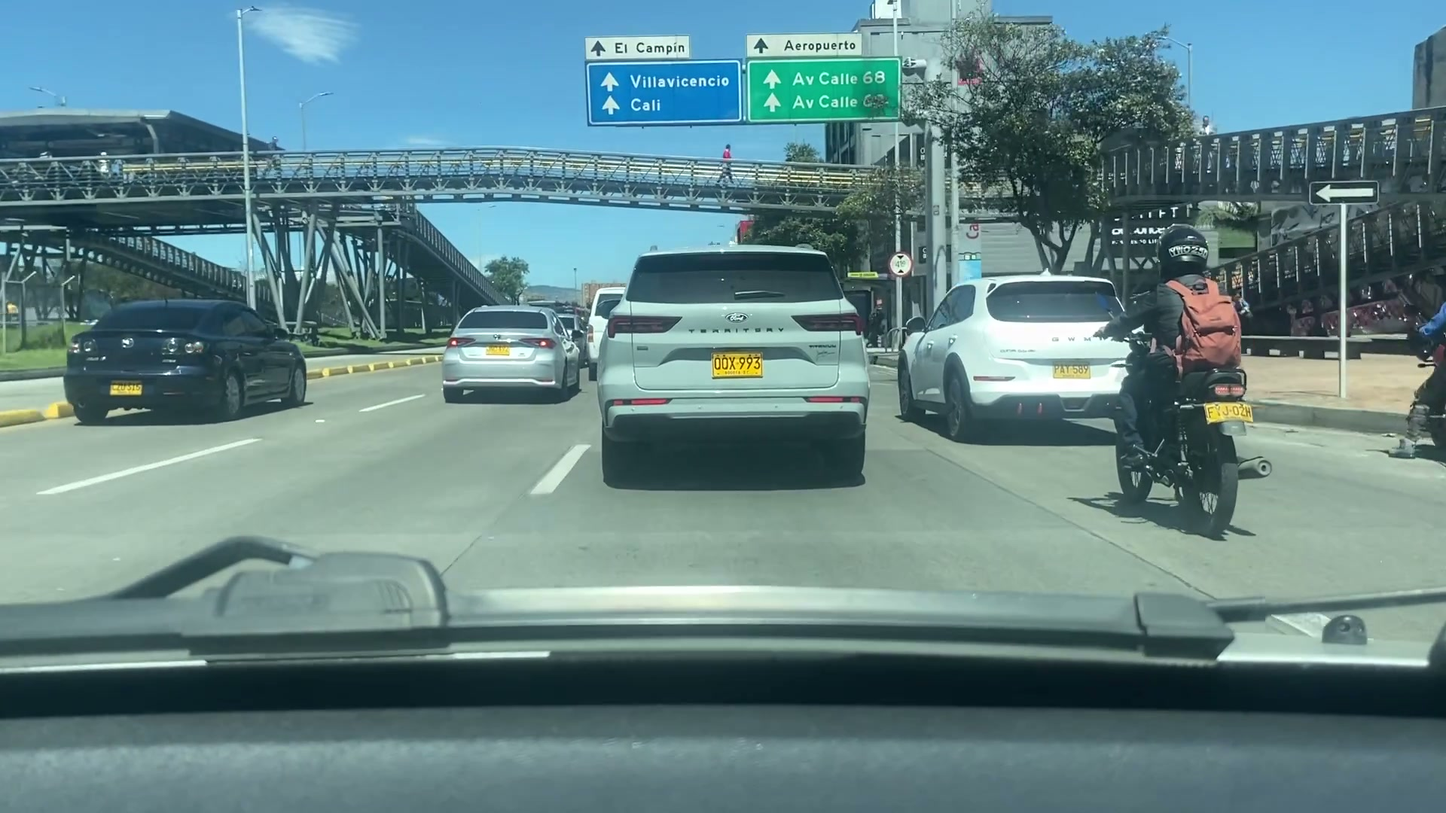car: (599, 236, 870, 486), (896, 275, 1139, 432), (58, 298, 310, 424), (439, 302, 585, 402), (583, 284, 634, 371)
motorcycle: (1084, 323, 1280, 529)
person: (1105, 219, 1250, 474)
